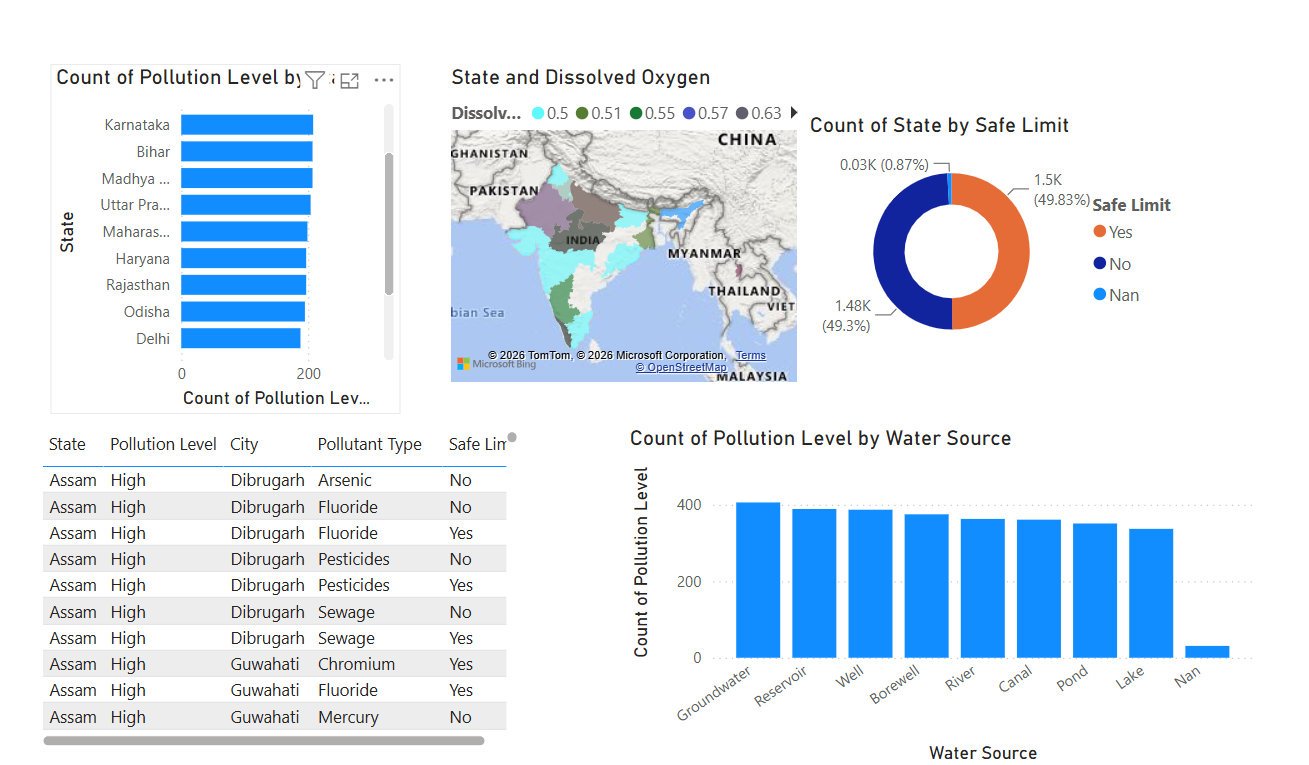

Layout of this report page (visuals, bound fields, positions):
{"tool":"powerbi","page":{"name":"Page 1","canvas":[1280,720],"ordinal":0},"visuals":[{"type":"clusteredBarChart","fields":{"Category":["water_pollution_cleaned.State"],"Y":["CountNonNull(water_pollution_cleaned.Pollution Level)"]},"box":[46.4,156.4,280,280],"z":0},{"type":"tableEx","fields":{"Values":["water_pollution_cleaned.State","water_pollution_cleaned.Pollution Level","water_pollution_cleaned.City","water_pollution_cleaned.Pollutant Type","water_pollution_cleaned.Safe Limit"]},"box":[33.6,445.5,391.8,261.8],"z":2000},{"type":"donutChart","fields":{"Category":["water_pollution_cleaned.Safe Limit"],"Y":["CountNonNull(water_pollution_cleaned.State)"]},"box":[649.1,193.6,316.4,205.5],"z":3000},{"type":"clusteredColumnChart","fields":{"Category":["water_pollution_cleaned.Water Source"],"Y":["CountNonNull(water_pollution_cleaned.Pollution Level)"]},"box":[504.5,445.5,508.2,274.5],"z":4000},{"type":"textbox","box":[46.4,22.7,807.3,80.9],"z":5000},{"type":"filledMap","fields":{"Category":["water_pollution_cleaned.State"],"Series":["water_pollution_cleaned.Dissolved Oxygen"]},"box":[362,156,287,260],"z":5001}]}

Visuals, with their boxes on the page's 1280x720 design canvas (x1, y1, x2, y2). These are canvas units, not pixel positions in the 1309x765 screenshot, which may show the page scaled, cropped or inside an application window:
clusteredBarChart - water_pollution_cleaned.State x CountNonNull(water_pollution_cleaned.Pollution Level): box=[46, 156, 326, 436]
tableEx - water_pollution_cleaned.State x water_pollution_cleaned.Pollution Level: box=[34, 446, 425, 707]
donutChart - water_pollution_cleaned.Safe Limit x CountNonNull(water_pollution_cleaned.State): box=[649, 194, 966, 399]
clusteredColumnChart - water_pollution_cleaned.Water Source x CountNonNull(water_pollution_cleaned.Pollution Level): box=[504, 446, 1013, 720]
textbox: box=[46, 23, 854, 104]
filledMap - water_pollution_cleaned.State x water_pollution_cleaned.Dissolved Oxygen: box=[362, 156, 649, 416]
